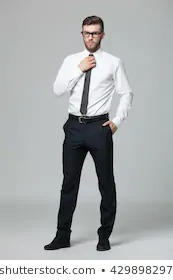F_belt: (66, 111, 107, 124)
F_dress pants: (58, 120, 117, 240)
F_shirt: (49, 49, 135, 128)
F_tie: (79, 54, 91, 117)
